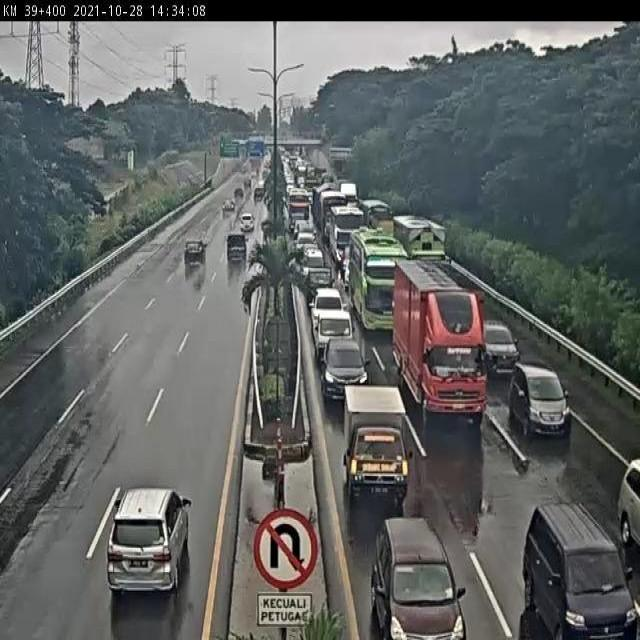bus-l-: (350, 229, 411, 335), (330, 208, 366, 265)
car: (516, 504, 637, 640), (373, 514, 466, 640), (340, 381, 413, 503), (107, 487, 189, 589), (507, 362, 571, 442), (321, 340, 372, 404), (482, 318, 520, 382), (314, 314, 357, 366), (309, 292, 348, 331), (303, 269, 336, 304), (183, 238, 207, 266), (303, 250, 328, 270), (342, 252, 357, 285), (297, 234, 317, 258), (293, 218, 316, 238)
truck-l-: (392, 264, 488, 423)
